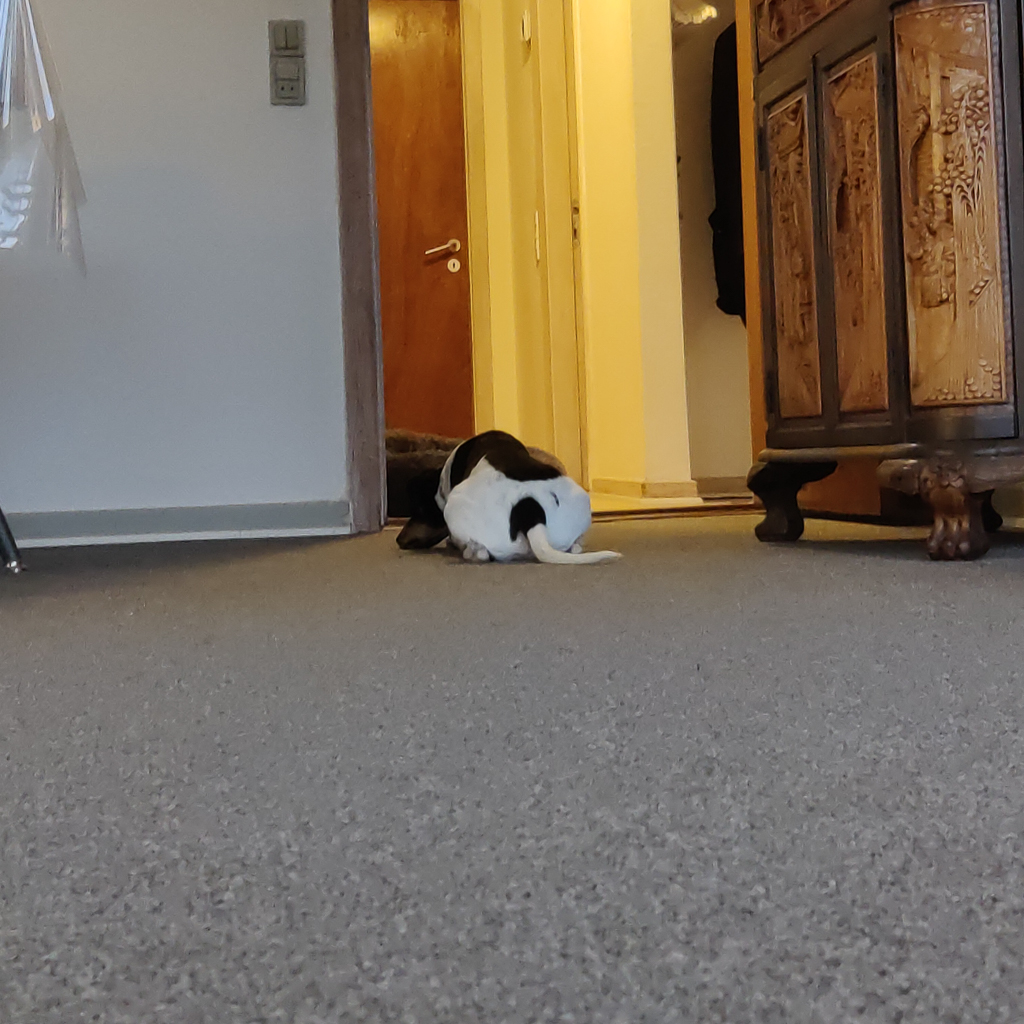Dog: (377, 417, 634, 581)
